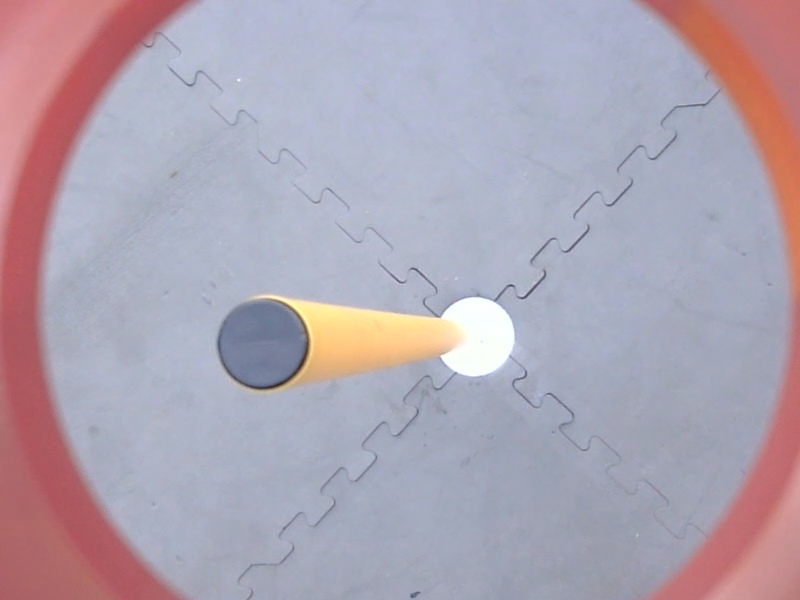tip: (211, 291, 320, 398)
